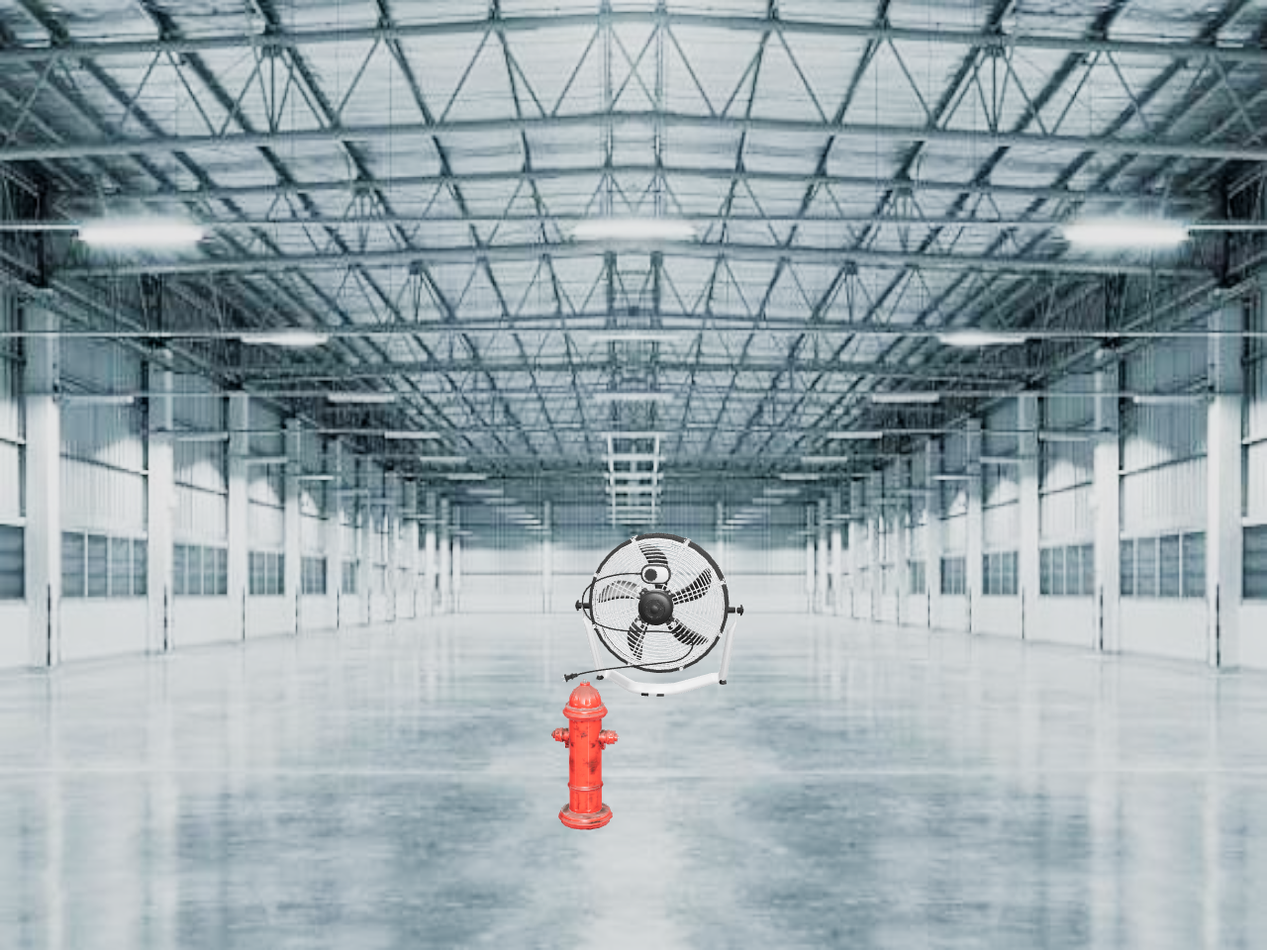FanSanati: (562, 533, 744, 697)
ShirAtashNeshani: (551, 679, 620, 830)
